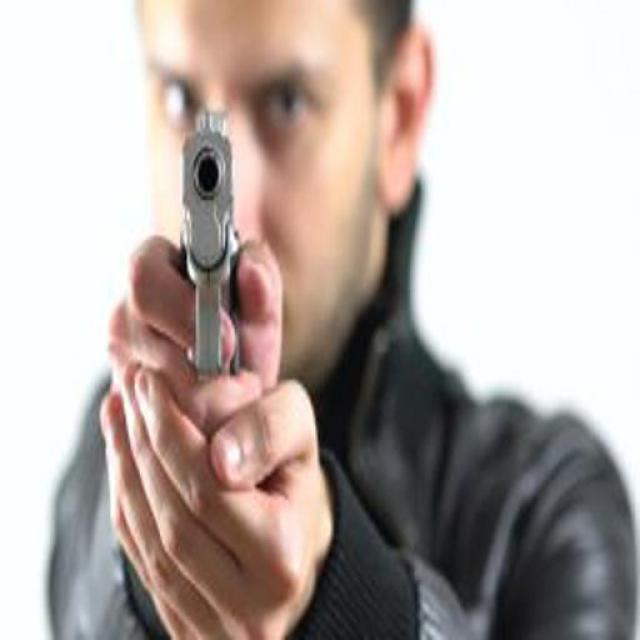pistol: (180, 95, 247, 384)
